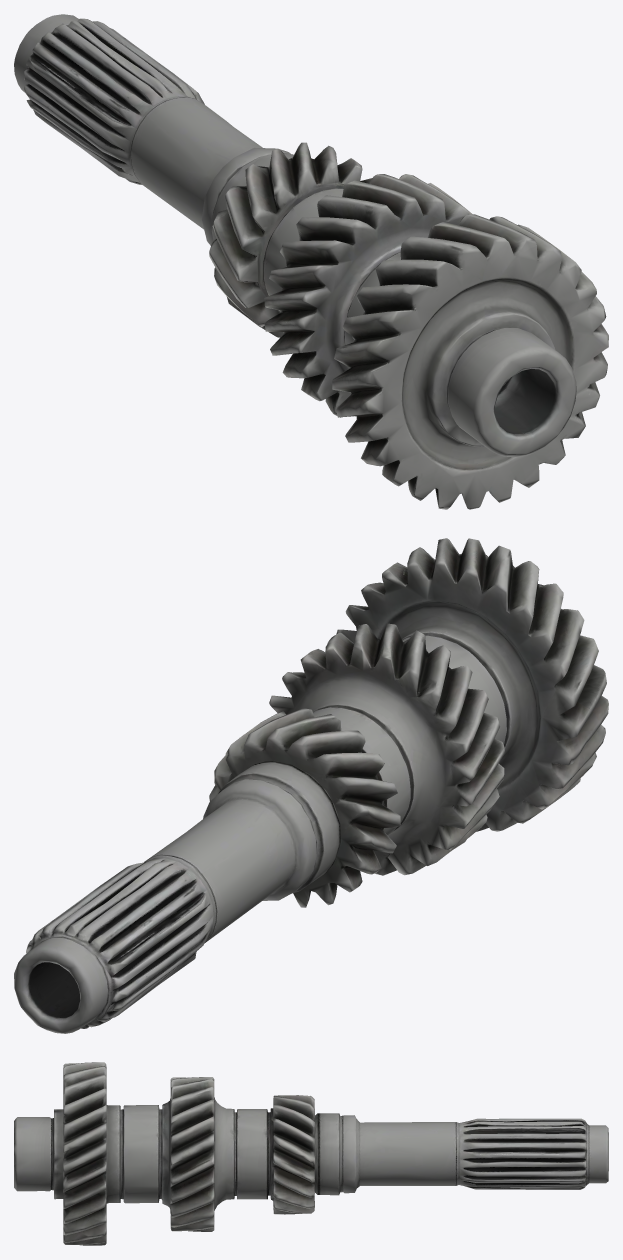
Rendered from m-t-gear.glb.
The picture shows the model from 3 angles, top to bottom: view 1: azimuth 30°, elevation 25°; view 2: azimuth 150°, elevation 25°; view 3: azimuth 270°, elevation 25°; orthographic projection. The views are drawn at different scales.
Parts seen in each view (by area): view 1: tripo_node_0adec612-1d61-463a-a2ee-c164abe0e42b; view 2: tripo_node_0adec612-1d61-463a-a2ee-c164abe0e42b; view 3: tripo_node_0adec612-1d61-463a-a2ee-c164abe0e42b.
Part boxes in pixels (x1,y1,x2,y2): tripo_node_0adec612-1d61-463a-a2ee-c164abe0e42b: [14, 14, 608, 509]; tripo_node_0adec612-1d61-463a-a2ee-c164abe0e42b: [14, 538, 608, 1033]; tripo_node_0adec612-1d61-463a-a2ee-c164abe0e42b: [14, 1062, 608, 1245].
Size of the model in its own units: 0.2989 by 0.3083 by 1.
Materials: 1 (1 with a texture image).
